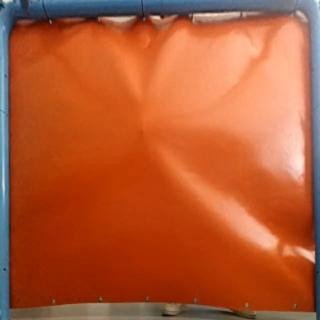Hit-hRxx: (134, 120, 150, 136)
